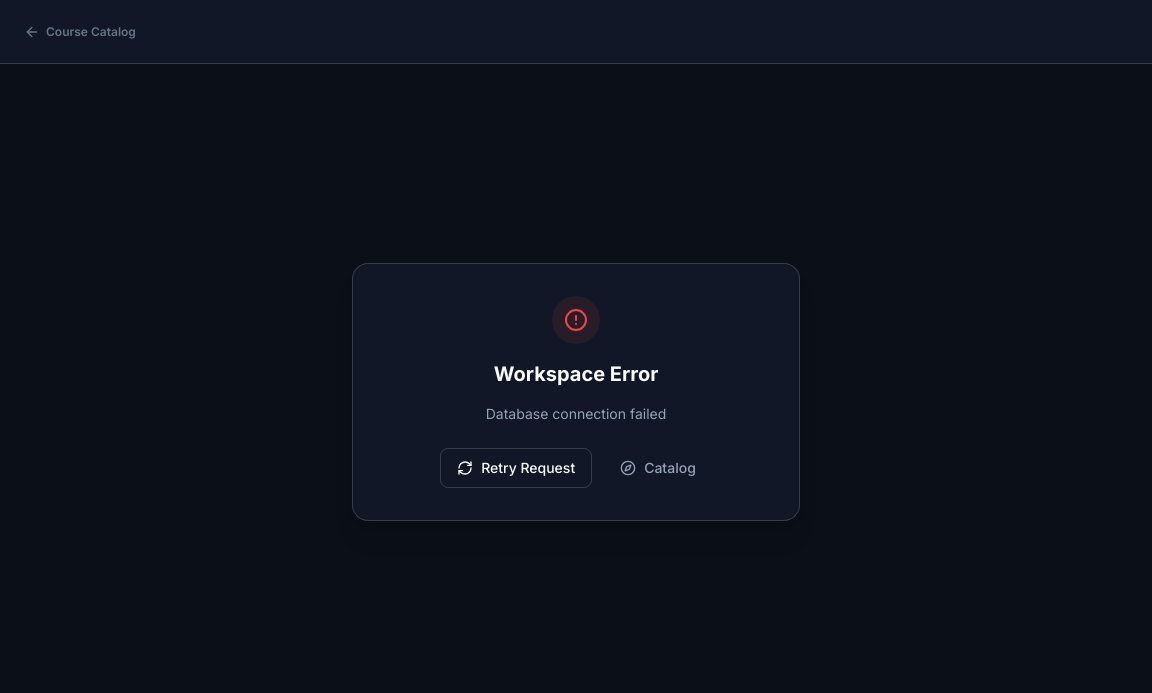
Scenario: LessonWorkspace Component › displays error state with Retry Request button when backend API encounters an error
The width and height of the screenshot is (1152, 693).
expect the heading "Workspace Error" is shown: met, box [494,362,658,386]
expect the text "Database connection failed" is shown: met, box [486,405,666,422]
Click the button "Retry Request" at (516, 468), box [440,448,592,488]
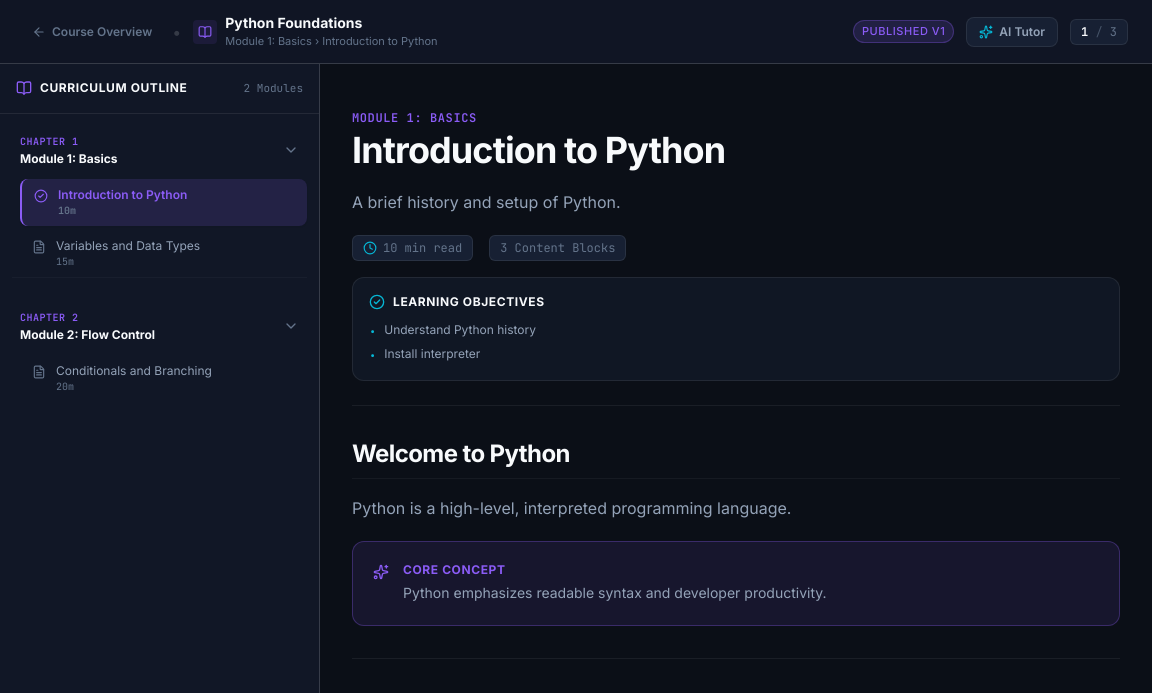
expect the heading "Introduction to Python" is shown: met, box [352,128,725,172]
